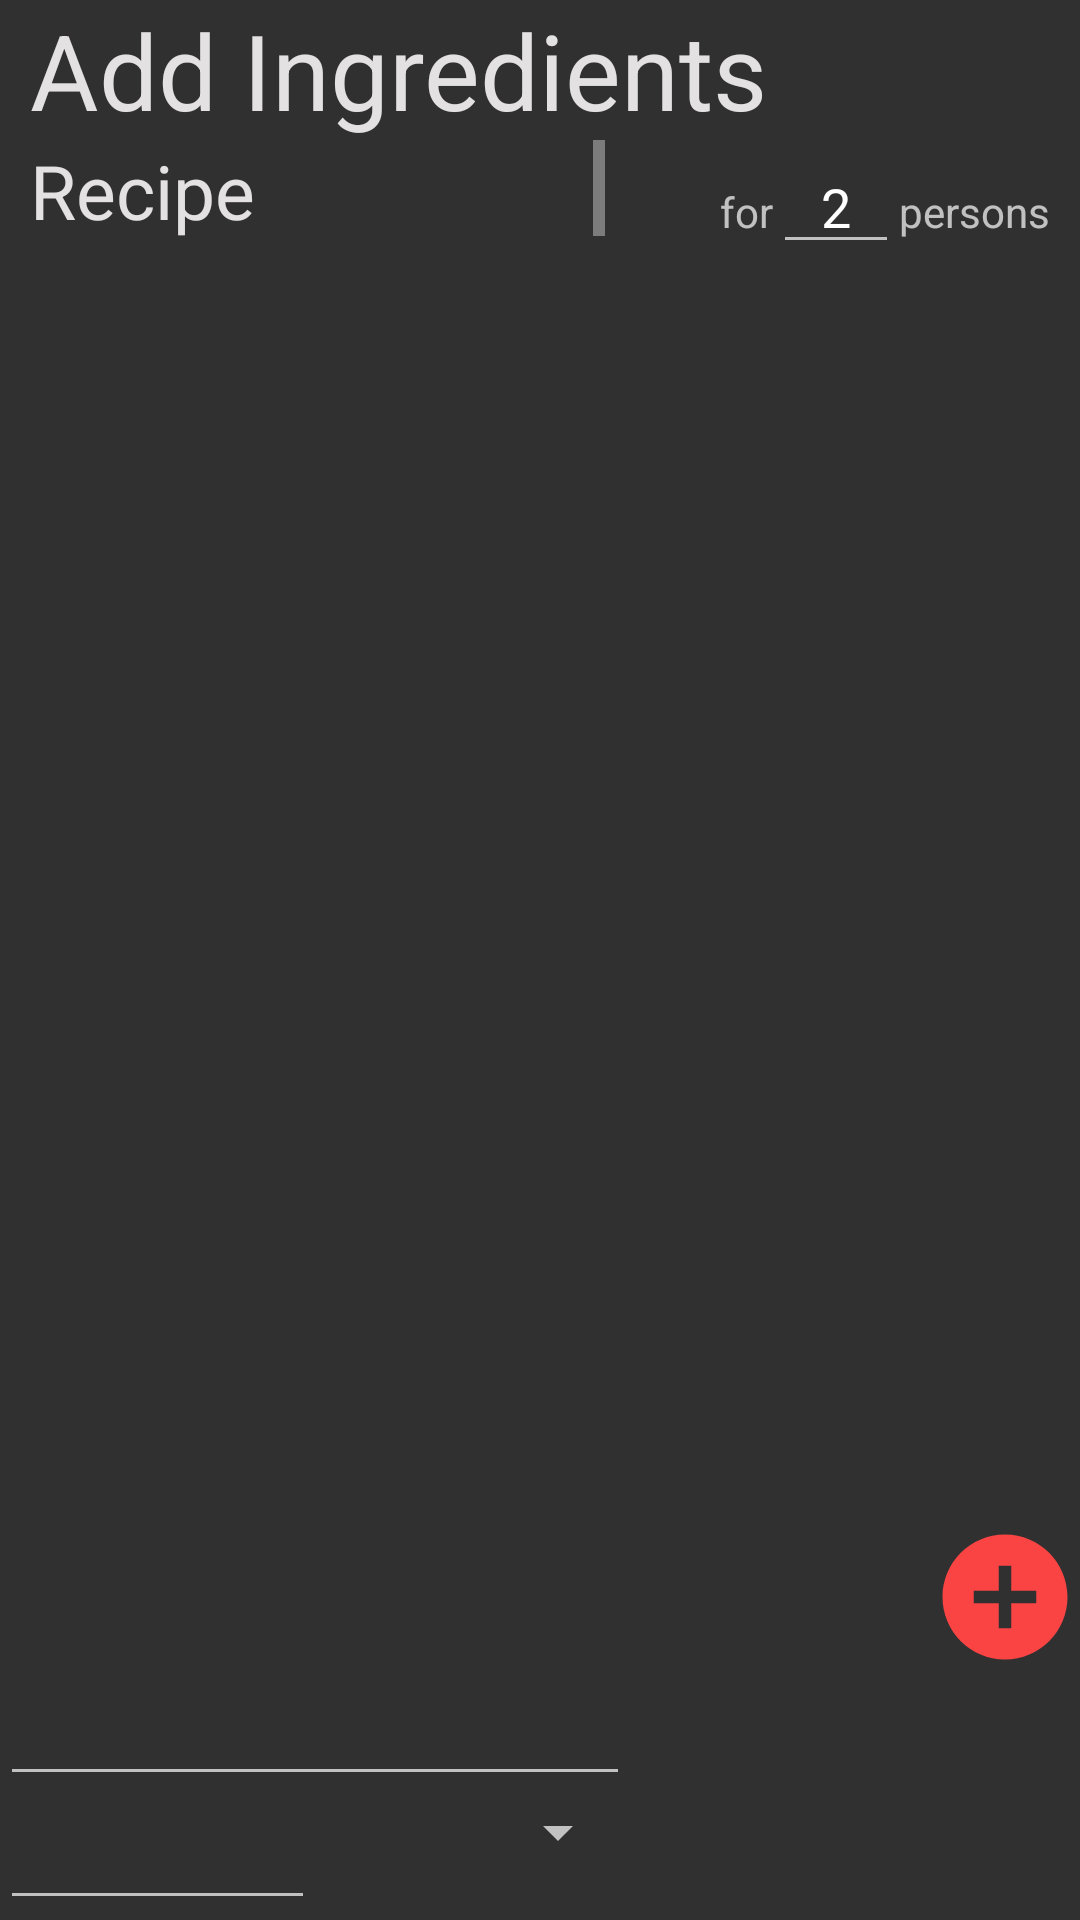

Point at icon controls on the screen. Image size 1080x1920, points as (x,y).
add ingredient: (1005,1597)
